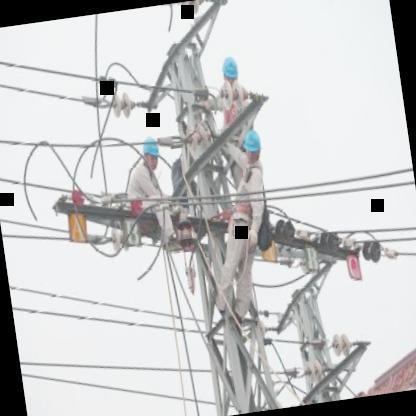helmet: (134, 132, 165, 172), (240, 127, 264, 166), (219, 53, 242, 93)
